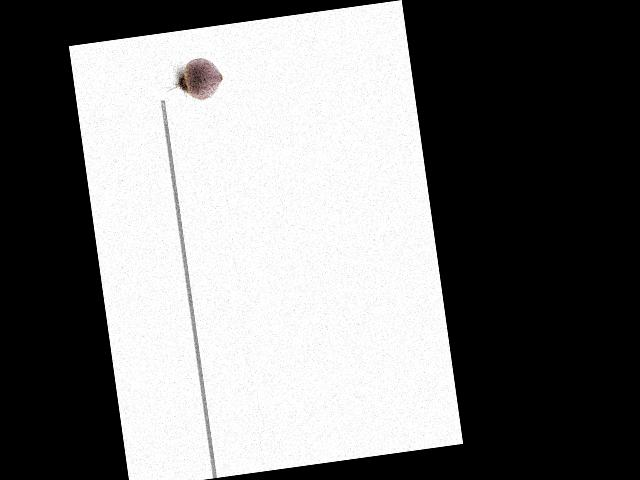beet: (157, 55, 225, 106)
